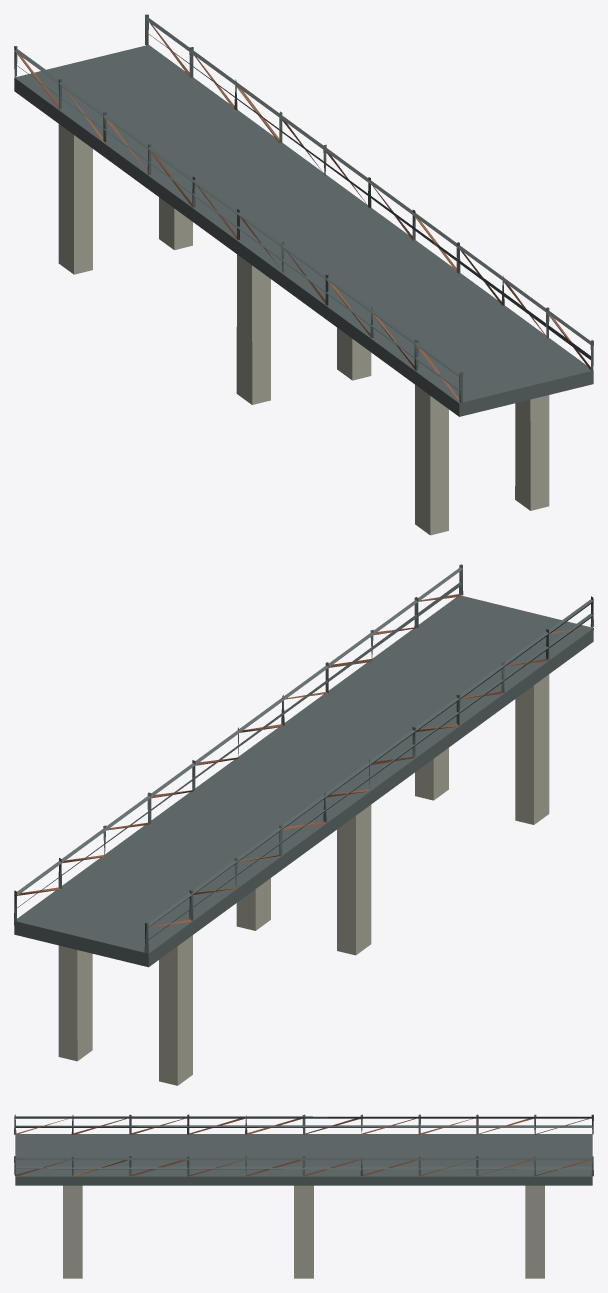
File: bridge_low.glb
3 views of the same model, one above another, from view 1: azimuth 30°, elevation 25°; view 2: azimuth 150°, elevation 25°; view 3: azimuth 270°, elevation 25° (orthographic). The views are drawn at different scales.
Parts seen in each view (by area): view 1: bridge.001; view 2: bridge.001; view 3: bridge.001.
Part boxes in pixels (x1,y1,x2,y2): bridge.001: (14,14,593,535); bridge.001: (14,564,593,1085); bridge.001: (14,1114,593,1278).
Size of the model in its own units: 6.99 by 9.49 by 40.15.
